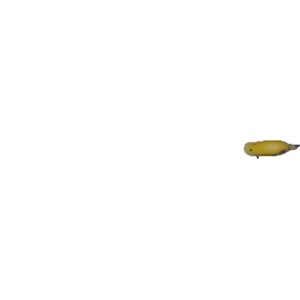banana: (238, 136, 299, 157)
